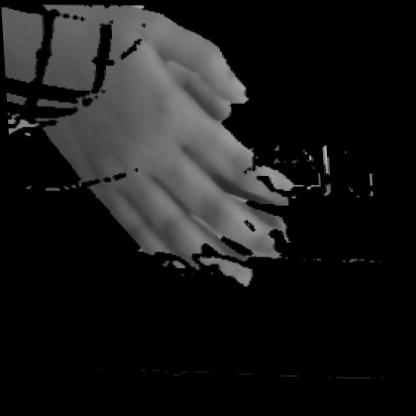dua: (38, 21, 315, 285)
